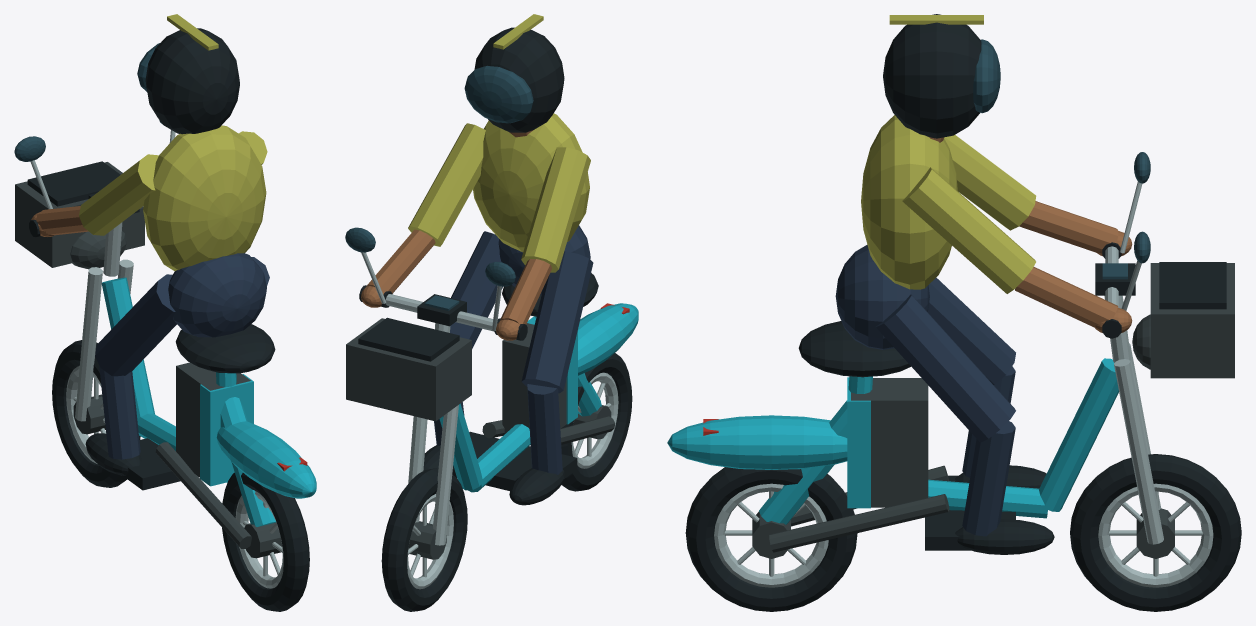
The model's file is yulu.glb.
The picture shows the model from 3 angles, left to right: view 1: azimuth 30°, elevation 25°; view 2: azimuth 150°, elevation 25°; view 3: azimuth 270°, elevation 25°; orthographic projection. The views are drawn at different scales.
Visible parts, largest first — view 1: yulu part 62, yulu part 64, yulu part 61, yulu part 9, yulu part 58, yulu part 67, Front basket, yulu part 57, yulu part 70, yulu part 53, yulu part 21, Removable battery (+19 smaller); view 2: yulu part 62, Front basket, yulu part 21, yulu part 67, yulu part 70, yulu part 64, yulu part 76, yulu part 9, yulu part 65, yulu part 58, yulu part 73, yulu part 68 (+24 smaller); view 3: yulu part 21, yulu part 62, yulu part 9, yulu part 64, yulu part 58, yulu part 73, Removable battery, Front basket, yulu part 76, yulu part 61, yulu part 51, yulu part 70 (+22 smaller).
Boxes of the visible parts, x1,y1,x2,y2 form: yulu part 62: (143,125,266,271); yulu part 64: (145,28,239,134); yulu part 61: (168,253,266,337); yulu part 9: (222,472,309,611); yulu part 58: (216,421,316,498); yulu part 67: (95,274,176,376); Front basket: (15,162,144,267); yulu part 57: (175,324,275,373); yulu part 70: (79,154,158,235); yulu part 53: (200,374,253,486); yulu part 21: (52,340,140,487); Removable battery: (176,362,250,477); yulu part 62: (473,113,589,252); Front basket: (346,318,471,421); yulu part 21: (381,468,467,611); yulu part 67: (521,251,593,393); yulu part 70: (521,147,590,272); yulu part 64: (474,27,564,132); yulu part 76: (408,123,485,246); yulu part 9: (561,353,632,491); yulu part 65: (464,65,533,123); yulu part 58: (578,303,638,375); yulu part 73: (450,231,502,348); yulu part 68: (527,384,562,474); yulu part 21: (1070,454,1241,611); yulu part 62: (861,115,957,289); yulu part 9: (685,467,857,611); yulu part 64: (883,14,981,138); yulu part 58: (667,415,847,469); yulu part 73: (876,294,1015,442); Removable battery: (851,378,928,507); Front basket: (1150,263,1234,378); yulu part 76: (902,167,1035,293); yulu part 61: (835,245,929,349); yulu part 51: (1039,358,1118,511); yulu part 70: (944,135,1036,230).
Bounding box in the file's own units: 0.68 × 1.94 × 1.7.
